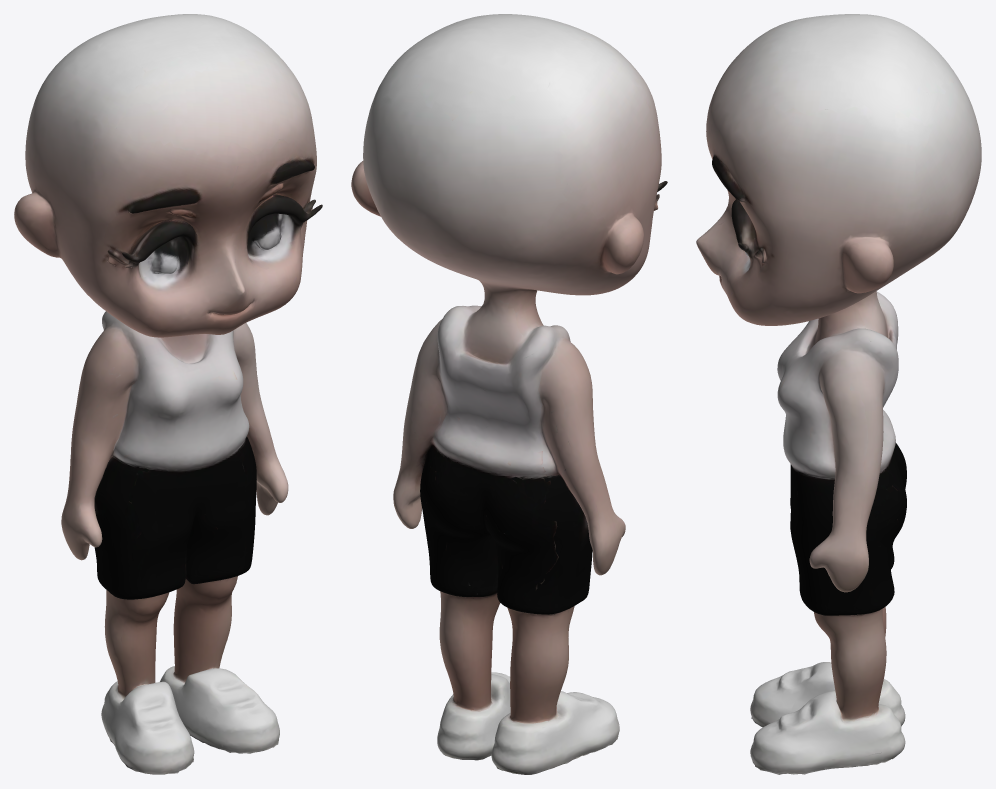
Rendered from Chibi Girl Keychain.glb.
3 renders of one model, left to right at view 1: azimuth 30°, elevation 25°; view 2: azimuth 150°, elevation 25°; view 3: azimuth 270°, elevation 25°, orthographic. The views are drawn at different scales.
Visible parts, largest first — view 1: geometry_0.001; view 2: geometry_0.001; view 3: geometry_0.001.
Boxes of the visible parts, left/top/right/bottom form: geometry_0.001: left=14, top=14, right=322, bottom=774; geometry_0.001: left=351, top=14, right=667, bottom=774; geometry_0.001: left=696, top=14, right=981, bottom=774.
Bounding box in the file's own units: 0.396 × 0.9515 × 0.3497.
Materials: 1 (1 with a texture image).
